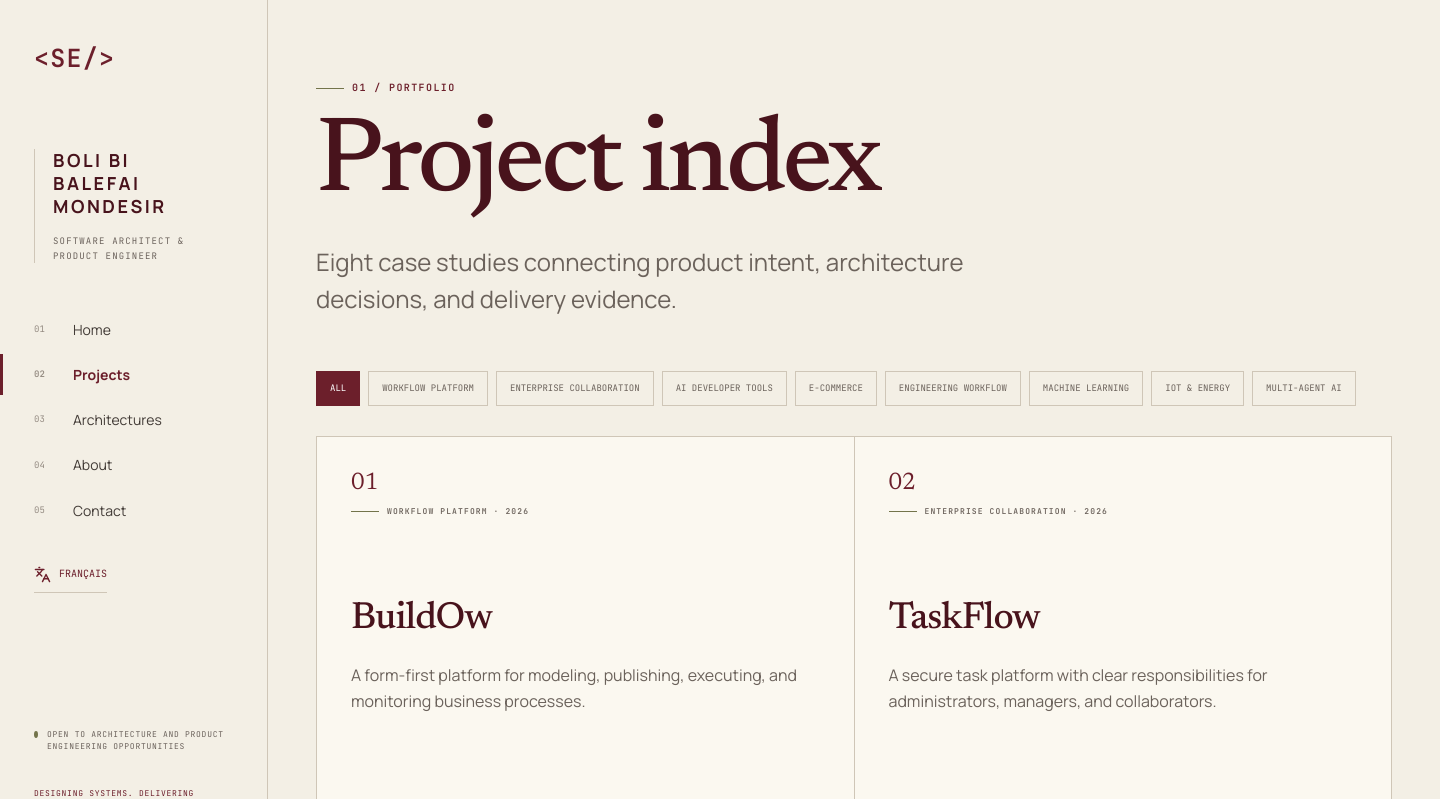
filters the project index by product domain
Click the button "Workflow platform". click: (428, 388)
box: 368,371 -> 488,406
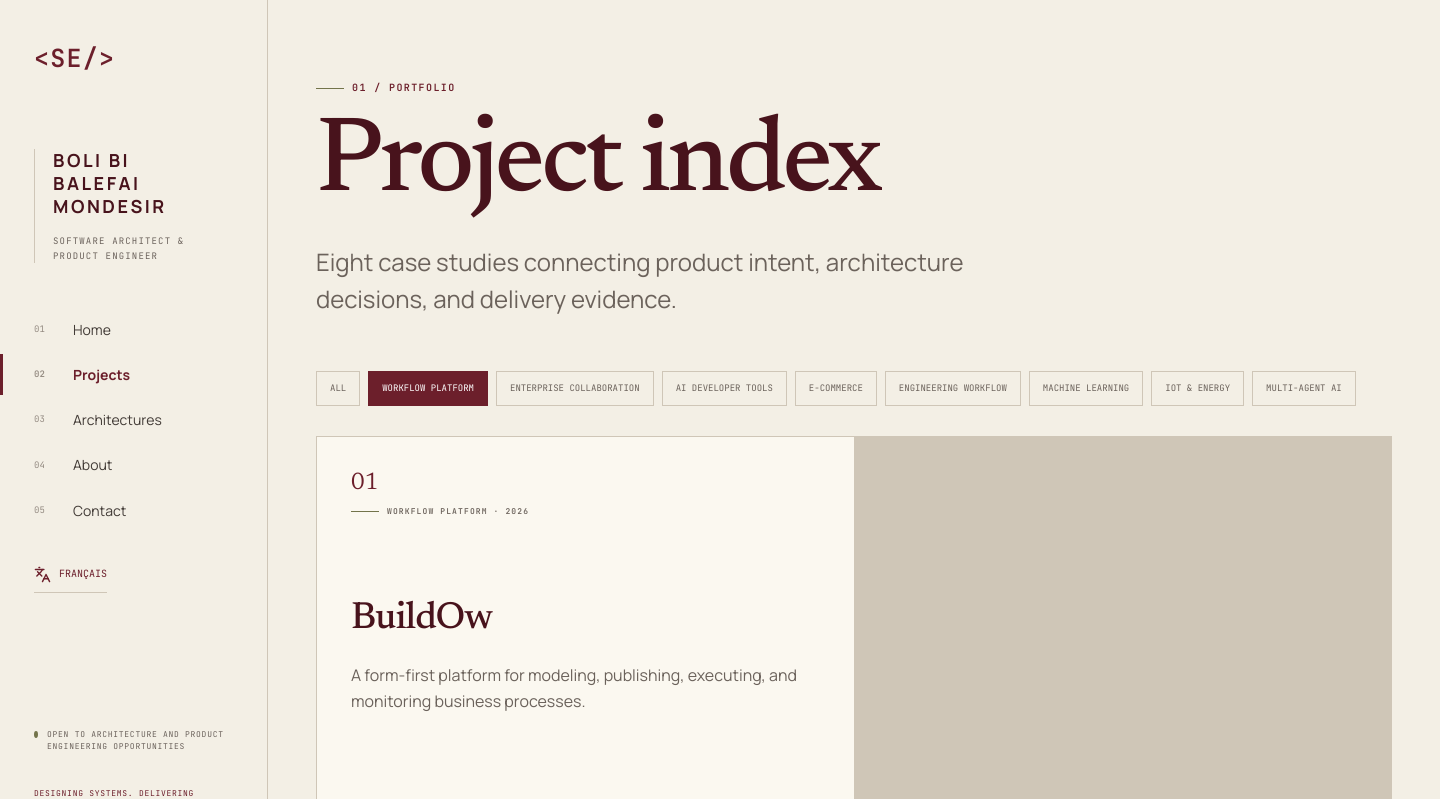
Expected: the heading "BuildOw" is shown, 351,600 -> 492,638
Now the heading "TaskFlow" is gone
